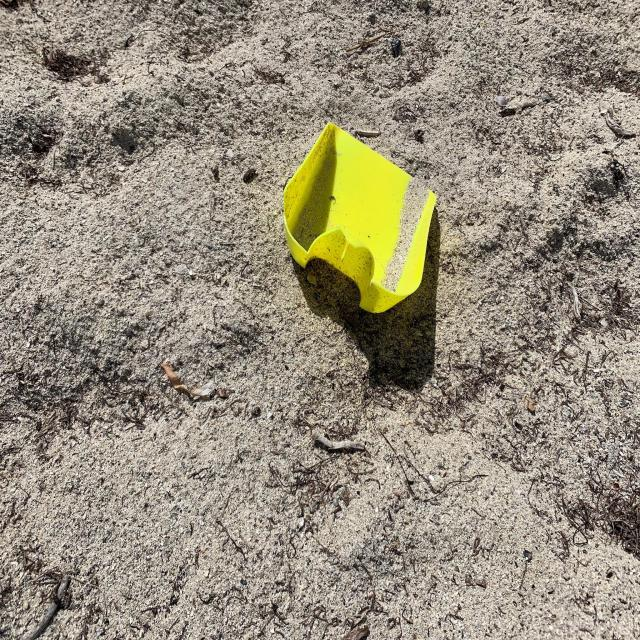litter: (282, 120, 438, 316)
